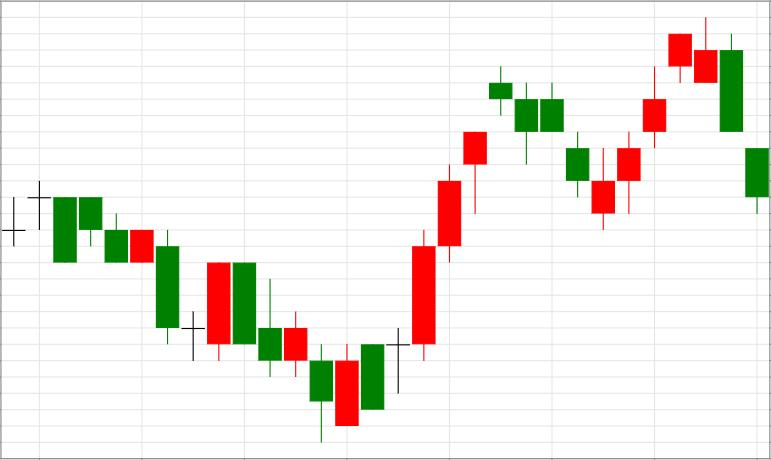hanging_man_fall: (386, 132, 487, 394)
three_white_soldiers_rise: (489, 66, 666, 230)
